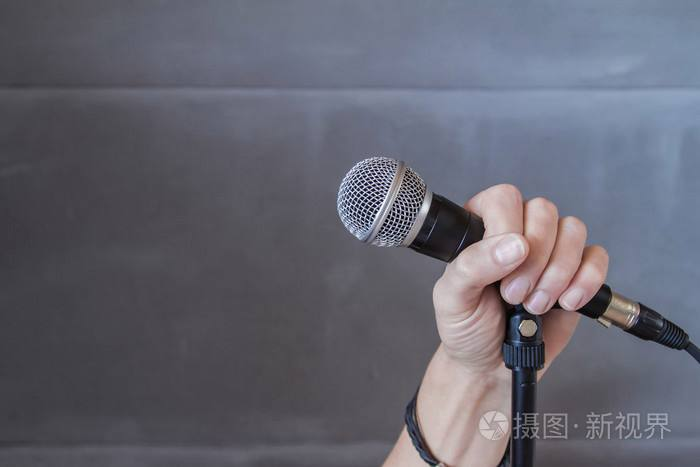no-phone: (335, 152, 620, 415)
